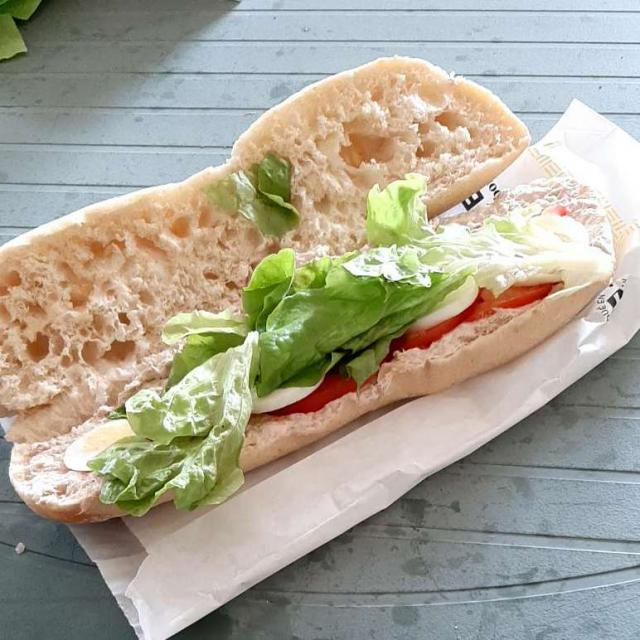bread-french-white-flour: (2, 44, 616, 526)
egg: (247, 291, 480, 416)
salad-leaf-salad-green: (92, 180, 604, 504)
